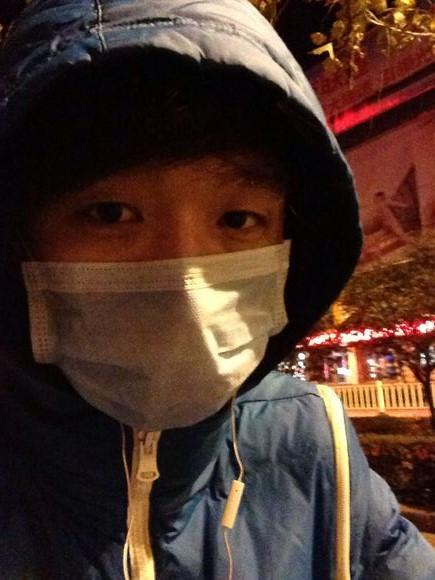face_mask: (29, 155, 288, 431)
